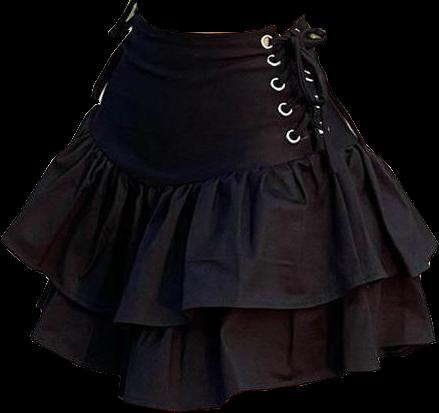Hemline: (30, 302, 434, 412), (1, 236, 438, 324)
Waistline: (87, 110, 360, 189), (135, 7, 306, 38)
